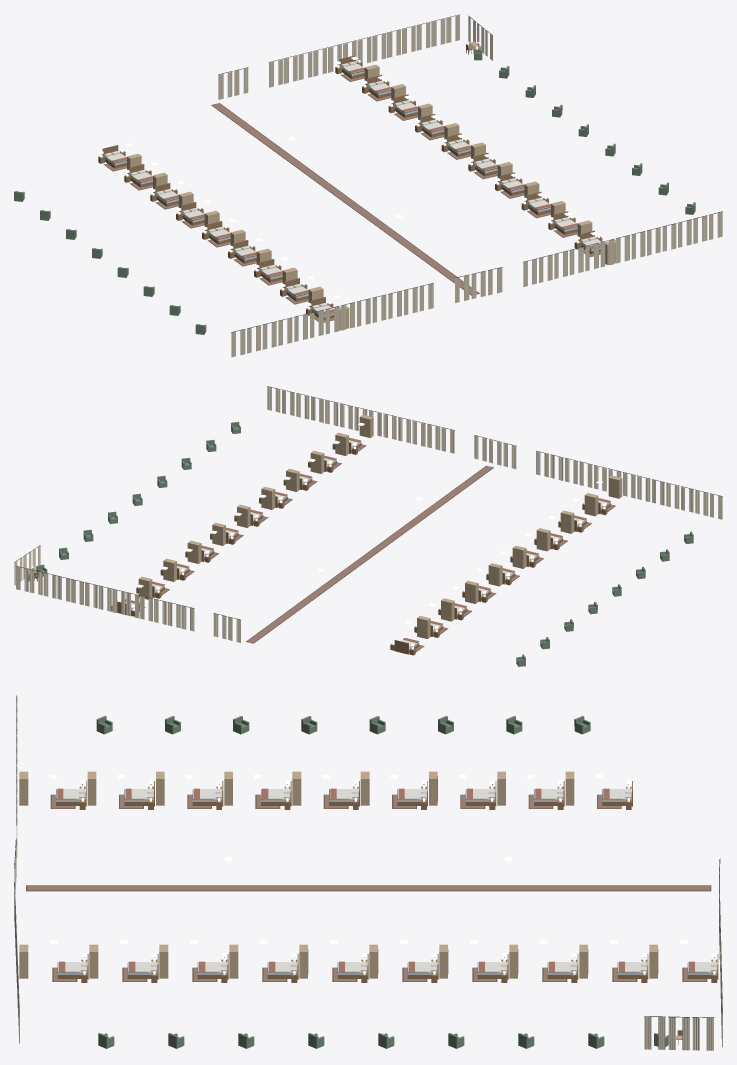
The model's file is fine-s3.glb.
3 views of the same model, one above another, from view 1: azimuth 30°, elevation 25°; view 2: azimuth 150°, elevation 25°; view 3: azimuth 270°, elevation 25° (orthographic). The views are drawn at different scales.
Parts seen in each view (by area): view 1: soft-s3; view 2: soft-s3; view 3: soft-s3.
Part boxes in pixels (x1=…): soft-s3: x1=99, y1=14, x2=722, y2=357; soft-s3: x1=14, y1=386, x2=722, y2=652; soft-s3: x1=14, y1=695, x2=722, y2=1050.
Bounding box in the file's own units: 52.32 × 2.56 × 48.41.
